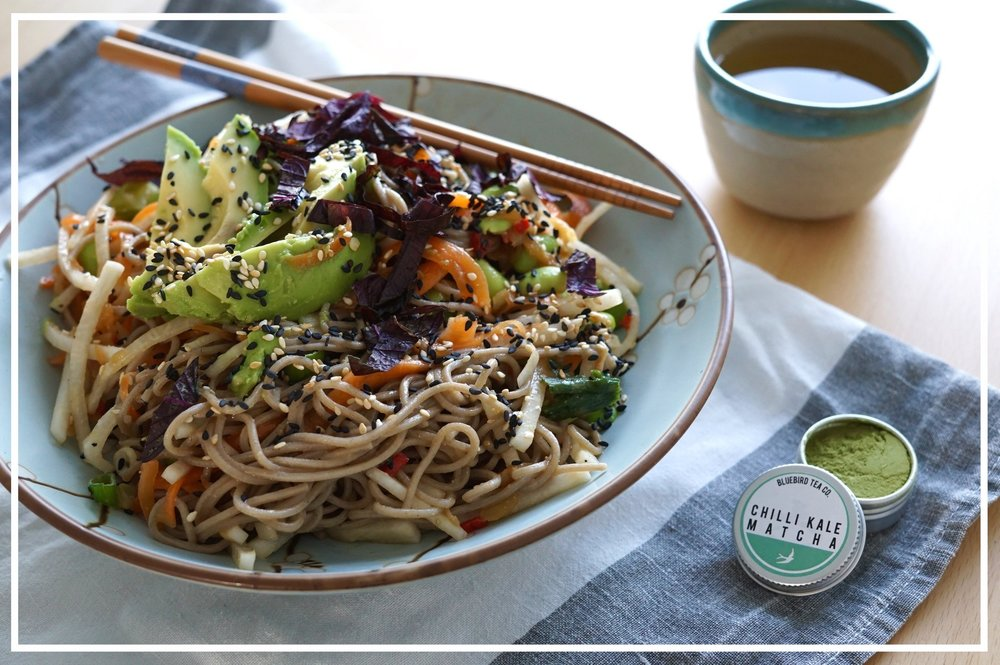Soba: (48, 302, 638, 565)
